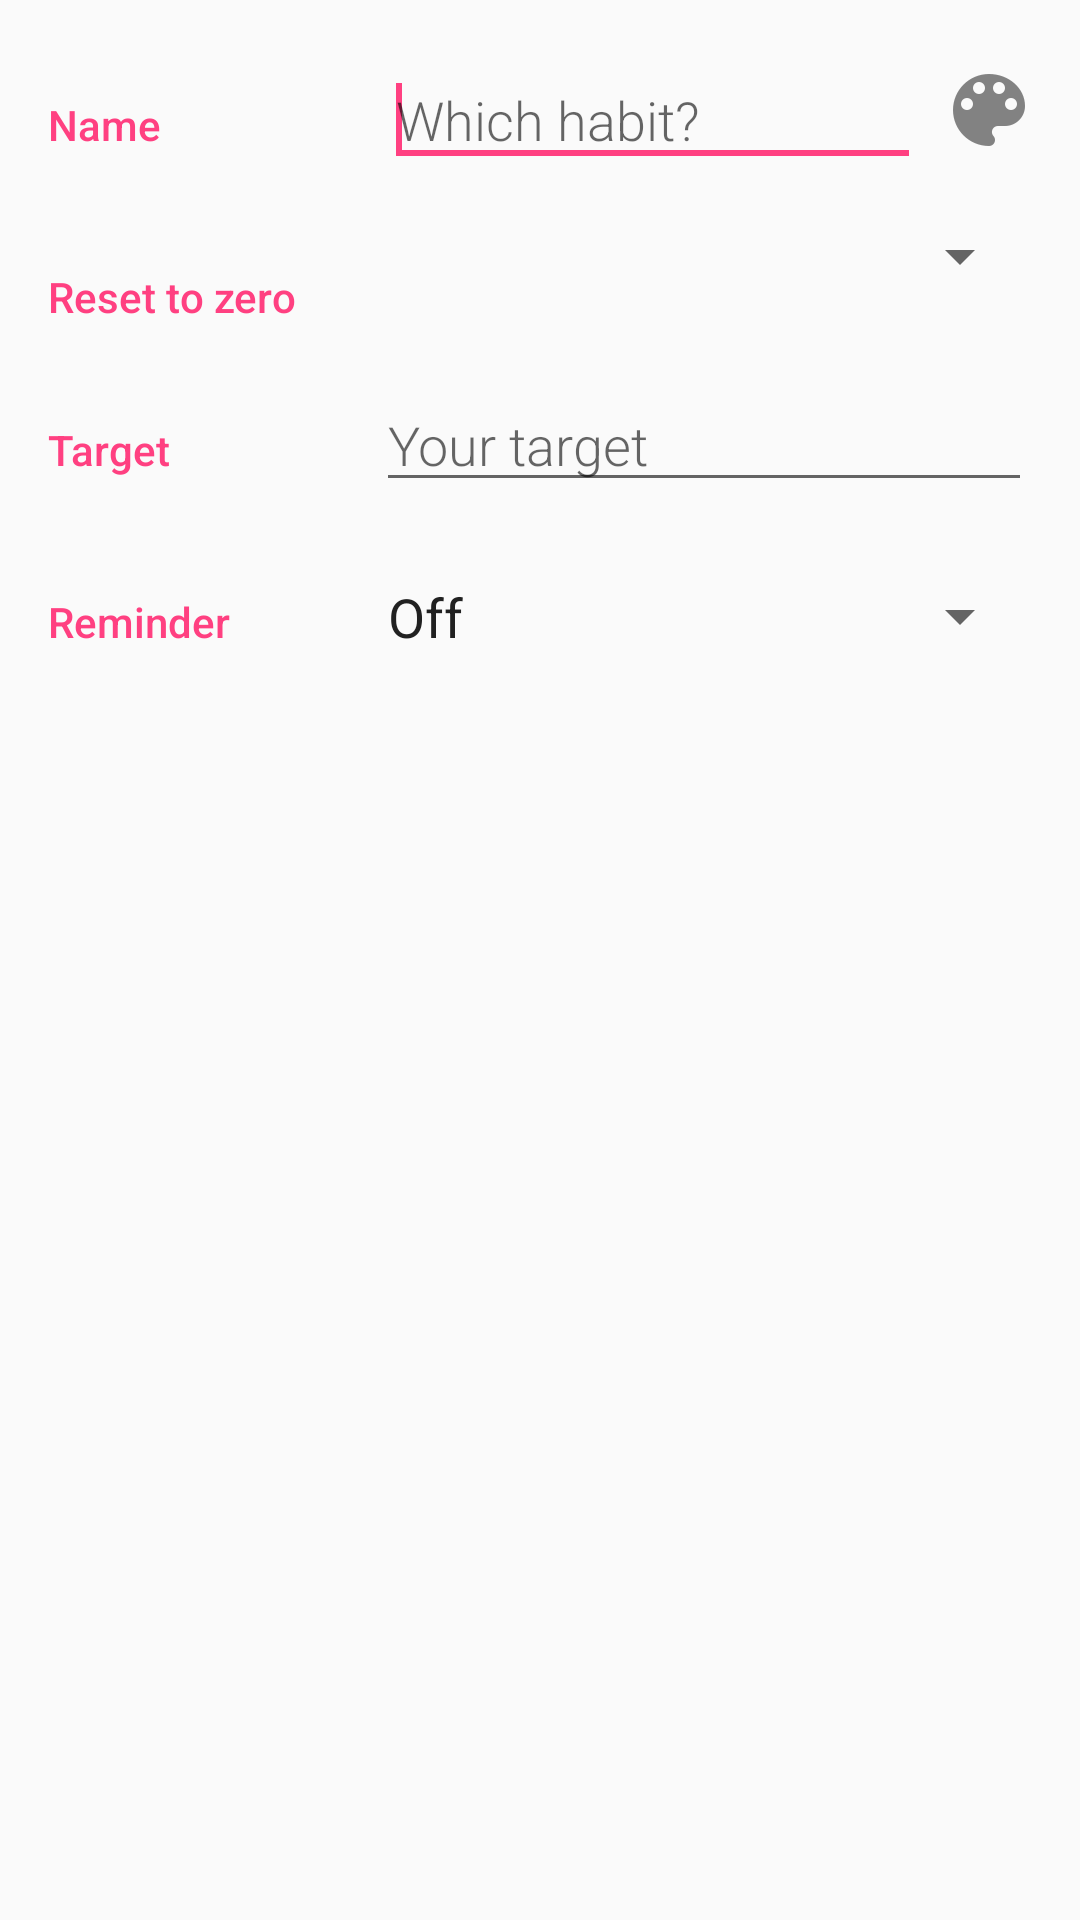

Point at icon controls on the screen. Image size 1080px x 1920px, points as (x,y).
Change color: (989,110)
